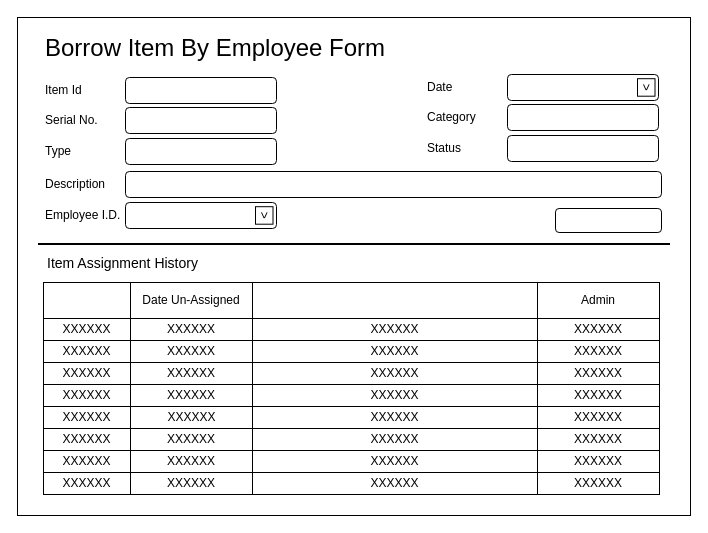
The diagram is 708 pixels wide and 533 high, and some of its shapes have lost their labels. Each missing label, with the centre of its shape:
Borrow: the point at 608,220
Date Assigned: the point at 86,300
Department: the point at 395,300
